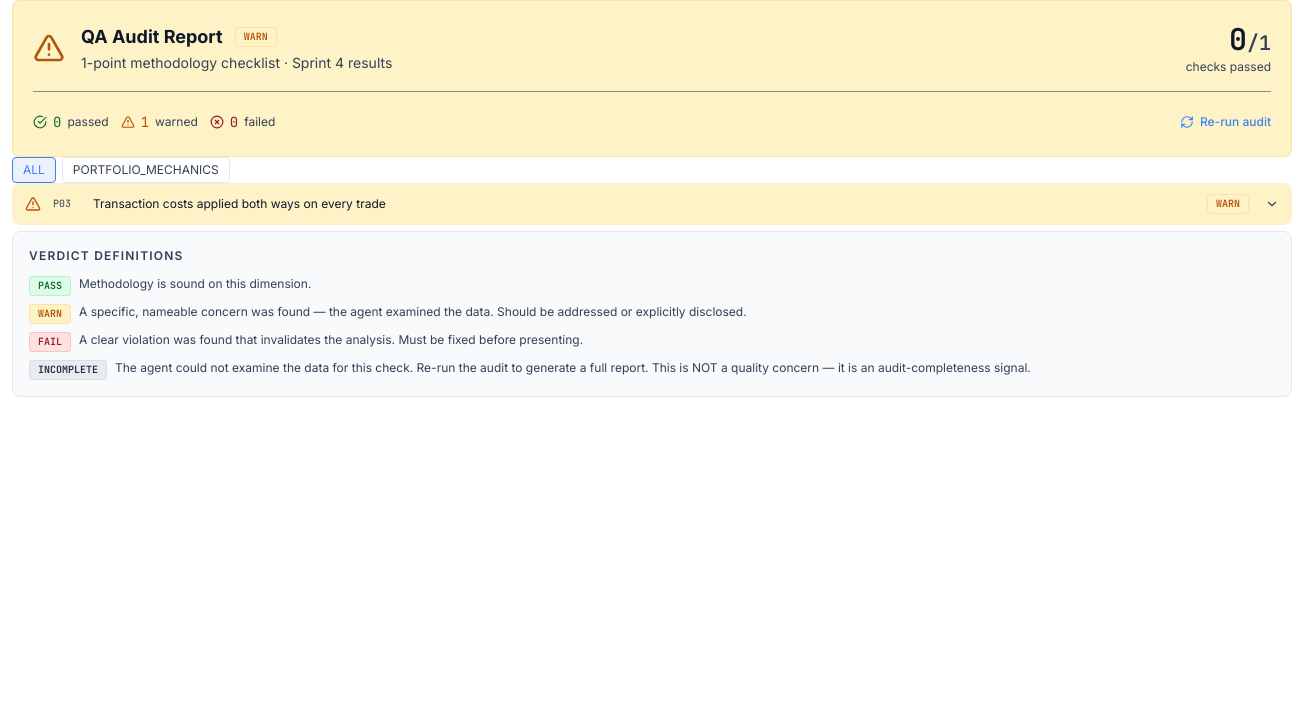
Test: QAAuditPanel — Action Required card variants › Flag for Fix POSTs to the flag-for-fix endpoint with check context
Click the text "Transaction costs applied both ways on every trade" at {"x": 239, "y": 204}, box [93, 196, 386, 211]
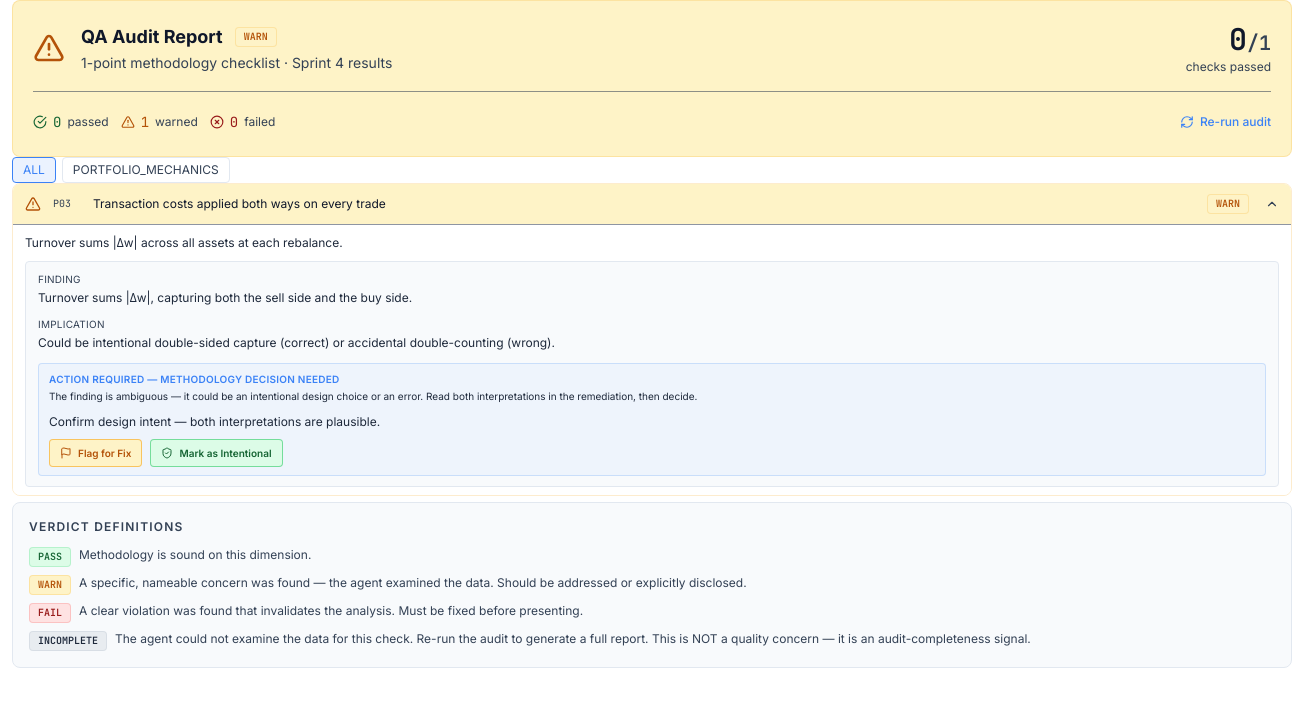
Click the button "Flag for Fix" at {"x": 96, "y": 453}, box [49, 439, 142, 467]
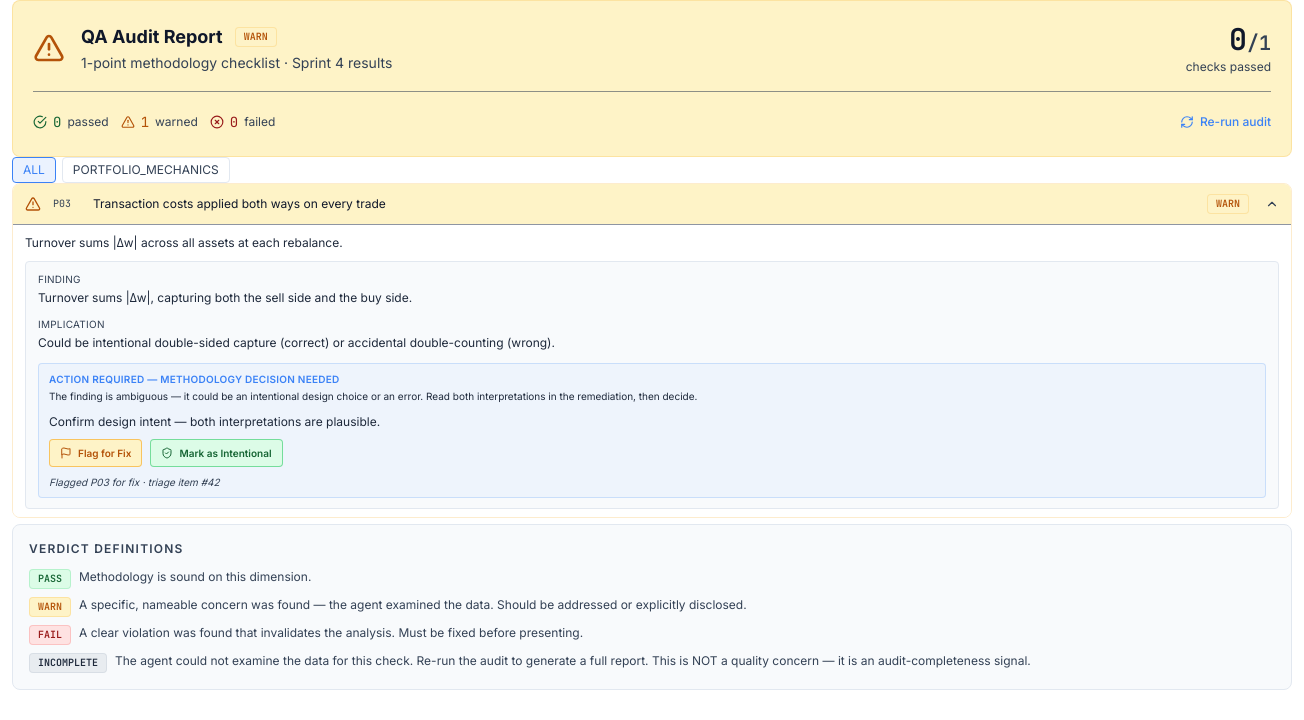
Check: the text "Flagged P03 for fix · triage item #42" is shown, box [49, 476, 220, 488]
